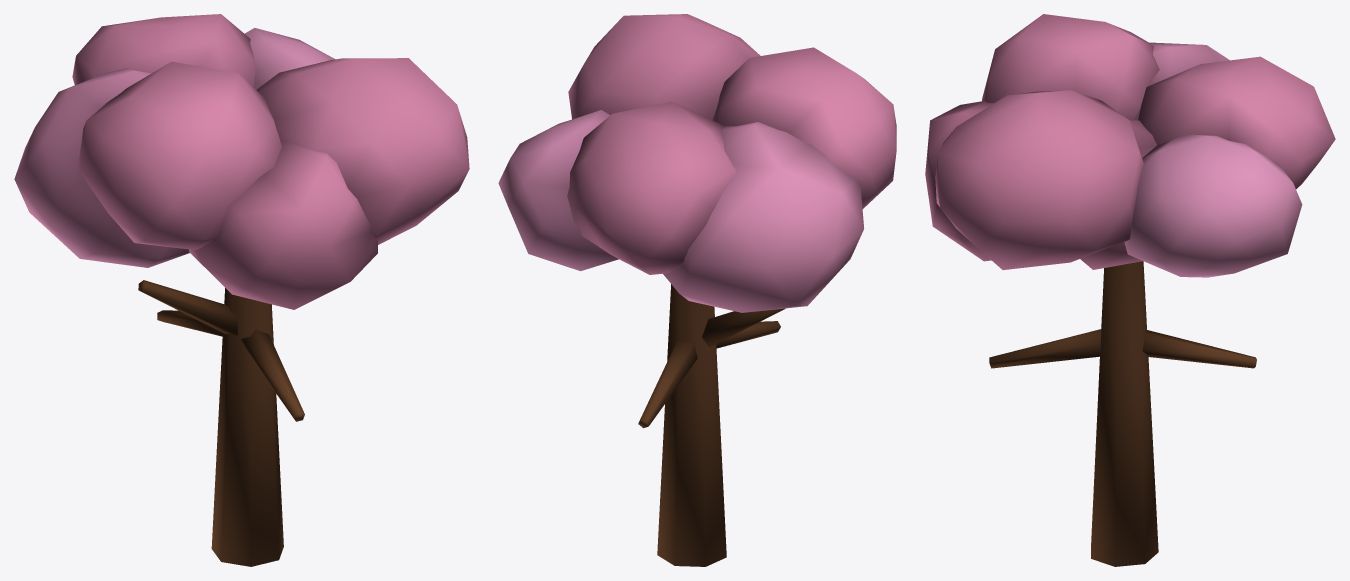
File: copac_roz_a.glb
3 views of the same model, side by side, from view 1: azimuth 30°, elevation 25°; view 2: azimuth 150°, elevation 25°; view 3: azimuth 270°, elevation 25° (orthographic). The views are drawn at different scales.
Parts seen in each view (by area): view 1: Frunze, Corp; view 2: Frunze, Corp; view 3: Frunze, Corp.
Part boxes in pixels (x1,y1,x2,y2): Frunze: [14, 14, 469, 309]; Corp: [138, 280, 304, 566]; Frunze: [498, 14, 896, 312]; Corp: [638, 284, 785, 566]; Frunze: [925, 14, 1335, 277]; Corp: [989, 261, 1256, 566].
Bounding box in the file's own units: 1.94 × 2.72 × 2.08.
